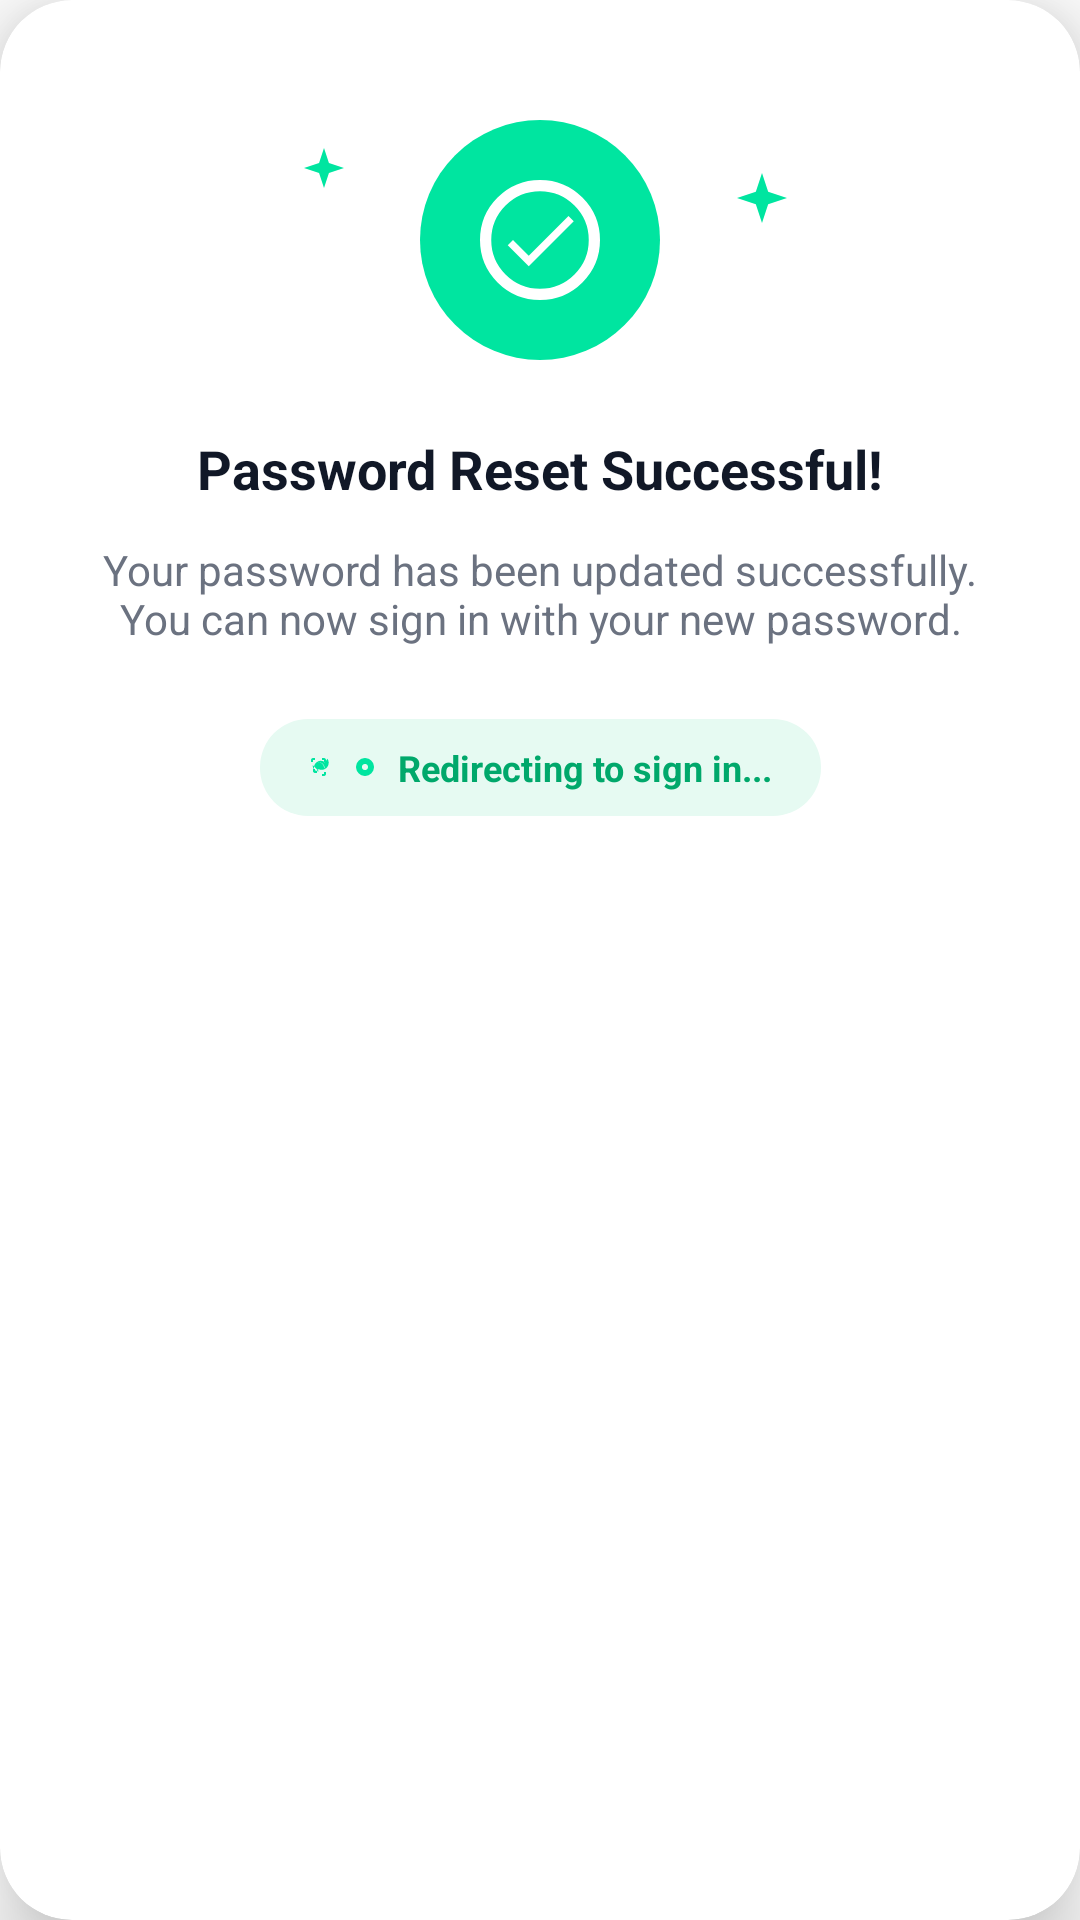

Icons on this 1080×1920 Android screen, each with its box as region(x1, y1, x2, y2):
star sparkle: region(304, 148, 344, 188), region(737, 173, 787, 223)
success check: region(420, 120, 660, 360)
